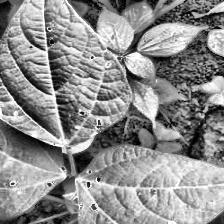Bean Rust: (0, 0, 130, 149), (72, 144, 224, 224), (0, 112, 69, 221)
